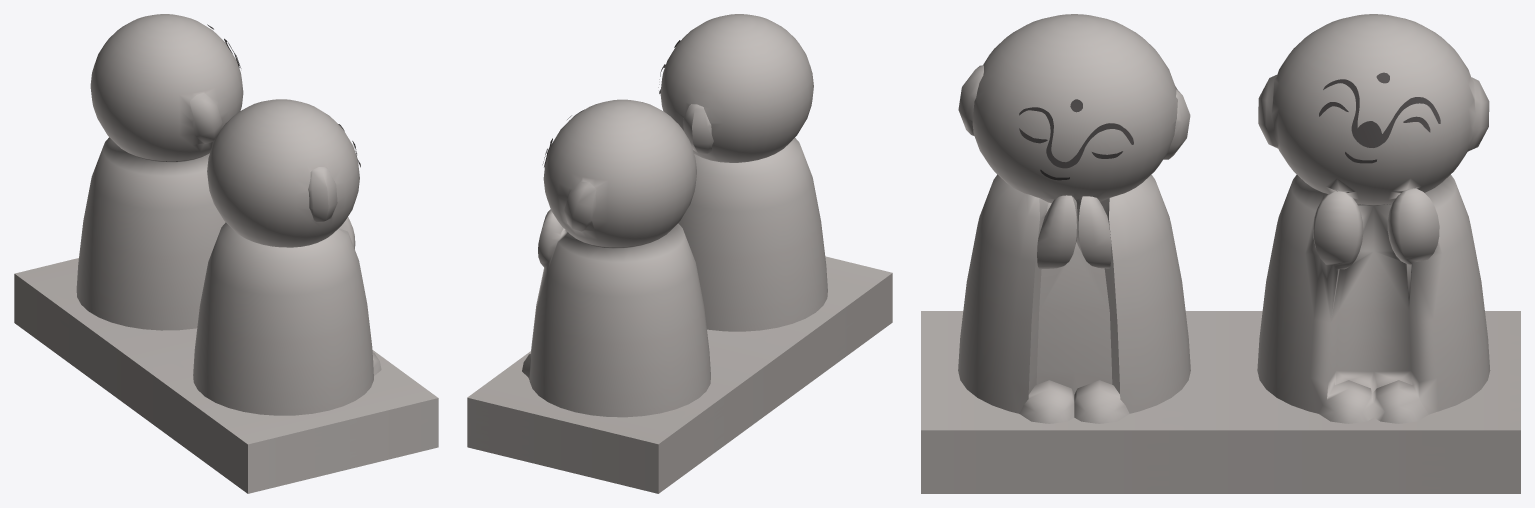
Rendered from zizo.glb.
3 renders of one model, left to right at view 1: azimuth 30°, elevation 25°; view 2: azimuth 150°, elevation 25°; view 3: azimuth 270°, elevation 25°, orthographic. The views are drawn at different scales.
Parts seen in each view (by area): view 1: head.001, face2; view 2: head.001, face2; view 3: head.001, face2.
Part boxes in pixels (<box>): head.001: <box>14,99,438,493</box>; face2: <box>76,14,243,330</box>; head.001: <box>467,14,892,493</box>; face2: <box>522,99,710,417</box>; head.001: <box>921,14,1520,493</box>; face2: <box>1257,14,1490,423</box>.
Size of the model in its own units: 0.2149 by 0.345 by 0.456.
2 materials, 2 textured.
